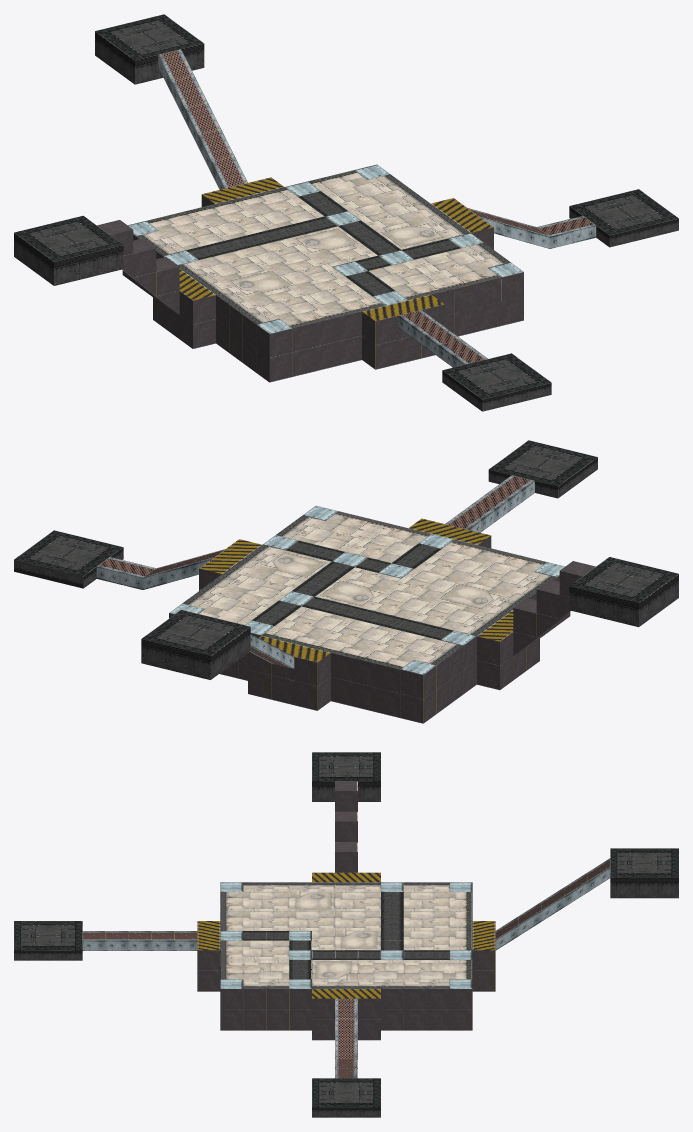
The model's file is test-zone2.glb.
3 views of the same model, one above another, from view 1: azimuth 30°, elevation 25°; view 2: azimuth 150°, elevation 25°; view 3: azimuth 270°, elevation 25° (orthographic). The views are drawn at different scales.
Parts seen in each view (by area): view 1: Frame_0.016; view 2: Frame_0.016; view 3: Frame_0.016.
Part boxes in pixels (<box>): Frame_0.016: <box>14,14,678,411</box>; Frame_0.016: <box>14,440,678,723</box>; Frame_0.016: <box>14,752,678,1117</box>.
Size of the model in its own units: 135 by 27.5 by 145.
1 material, 1 textured.
